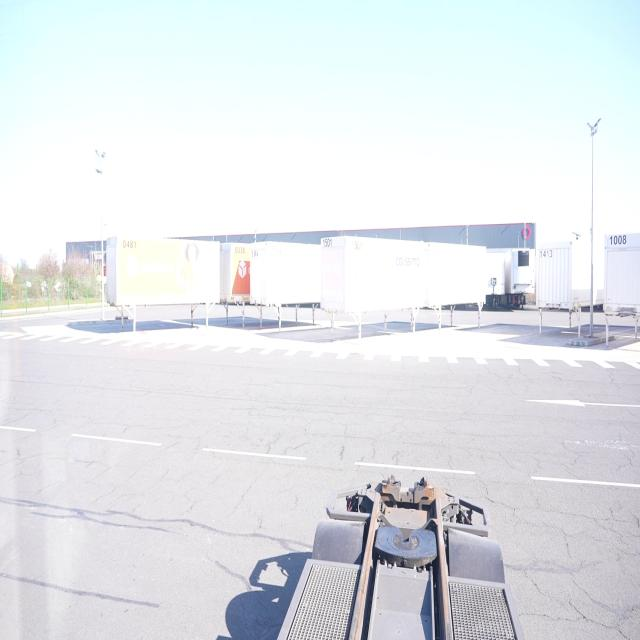Code: (605, 230, 631, 252), (117, 235, 140, 252), (538, 244, 556, 263), (318, 232, 334, 251), (232, 240, 248, 258)
